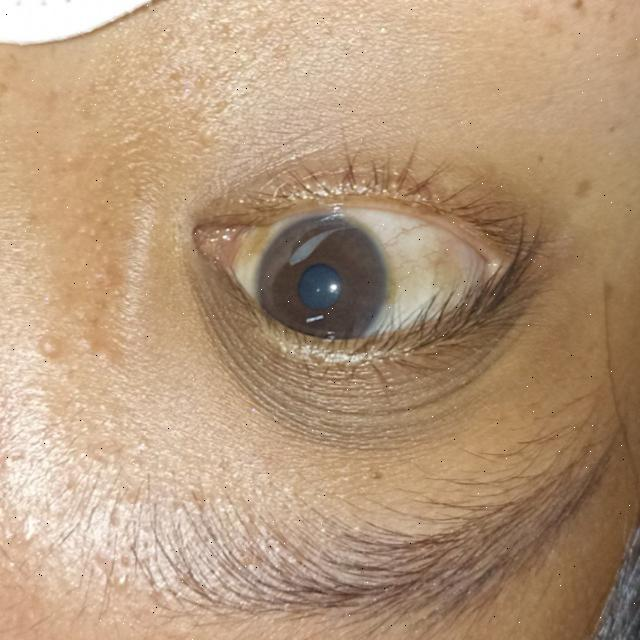Normal: (254, 214, 388, 352)
